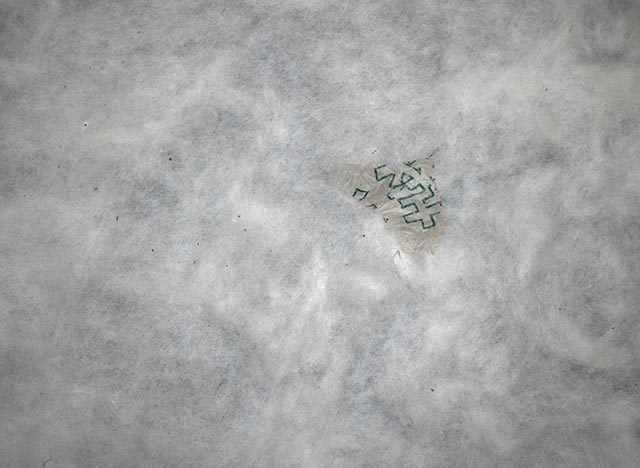plastic film: (321, 150, 449, 255)
